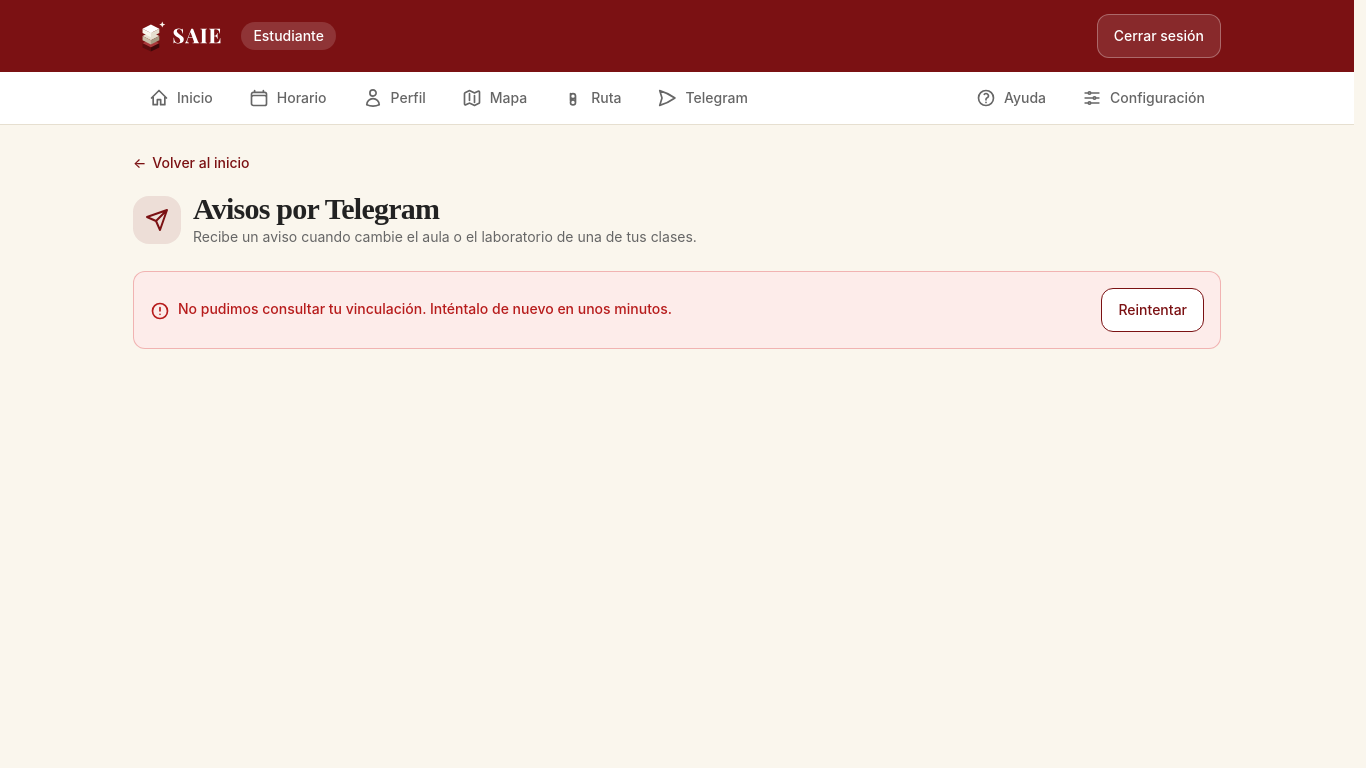
Test case: TelegramAlumnoPage › muestra el error de consulta y permite reintentar
This screenshot has width=1366, height=768.
expect the message shows "No pudimos consultar tu vinculación": met, box x1=178 y1=300 x2=672 y2=317
What coordinates should you click on to do the following:
click the button "Reintentar"
I would click on:
 (1153, 310)
Its box is x1=1102 y1=288 x2=1204 y2=332.
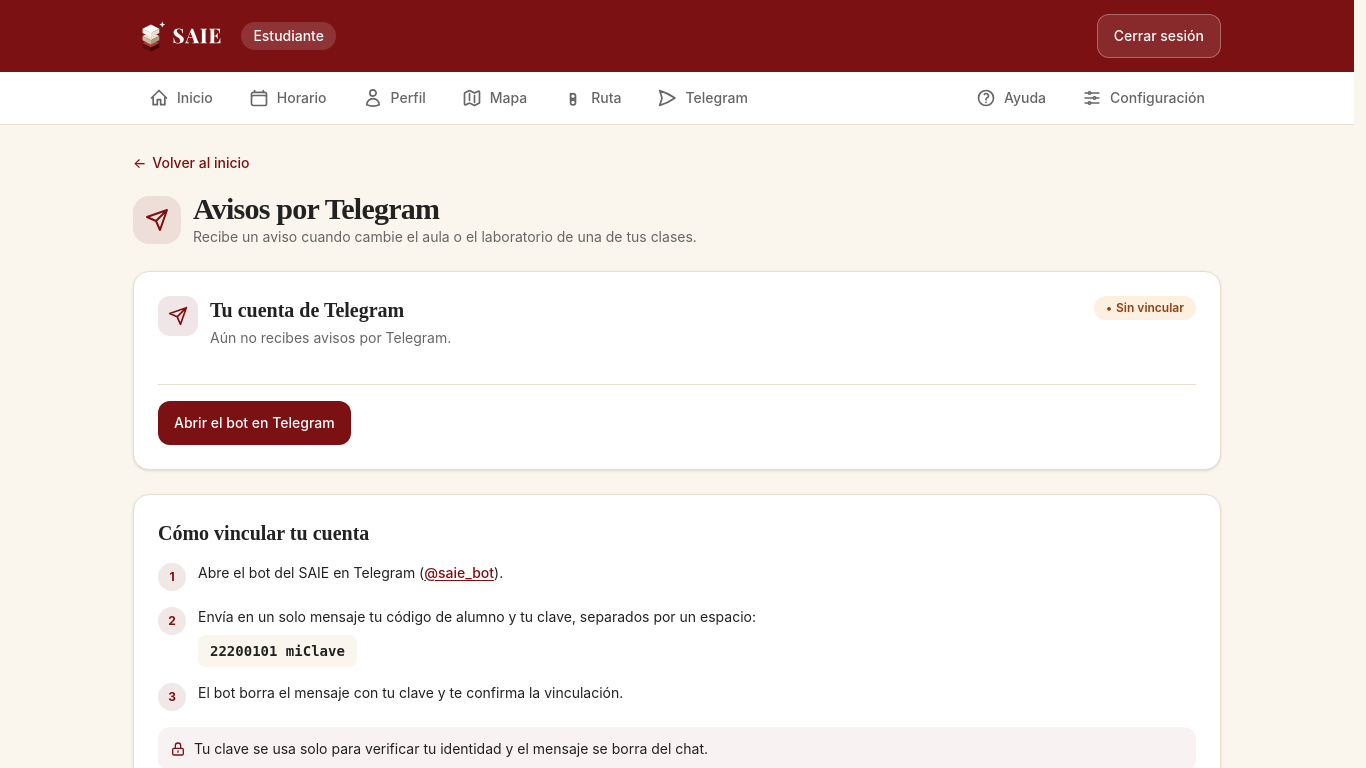
expect the text "Sin vincular" is shown: met, box x1=1116 y1=300 x2=1184 y2=315
